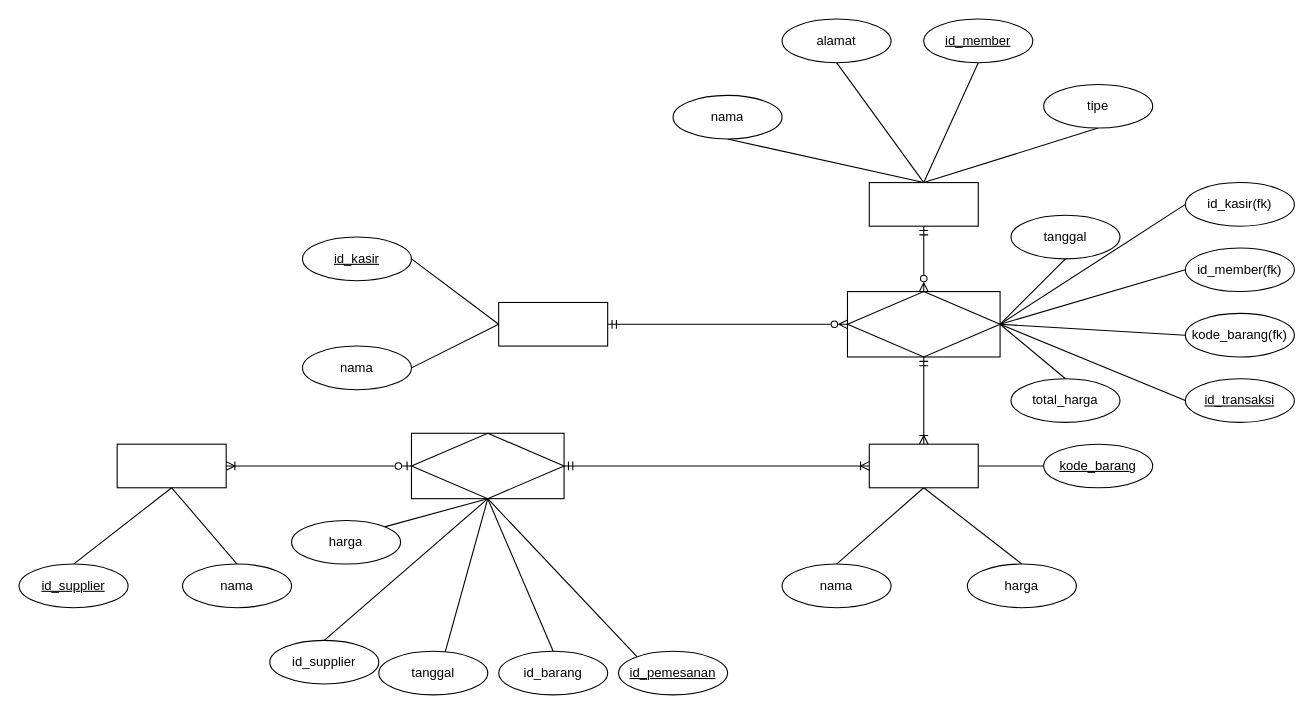
Image size: 1313x715. Some labels were removed from this diagram. Each missing label, with the centre of its shape:
"Barang" goes at pixel 923 465.
"Kasir" goes at pixel 553 323.
"Member" goes at pixel 923 203.
"Pemasok" goes at pixel 487 465.
"Supplier" goes at pixel 171 465.
"Transaksi" goes at pixel 923 323.
